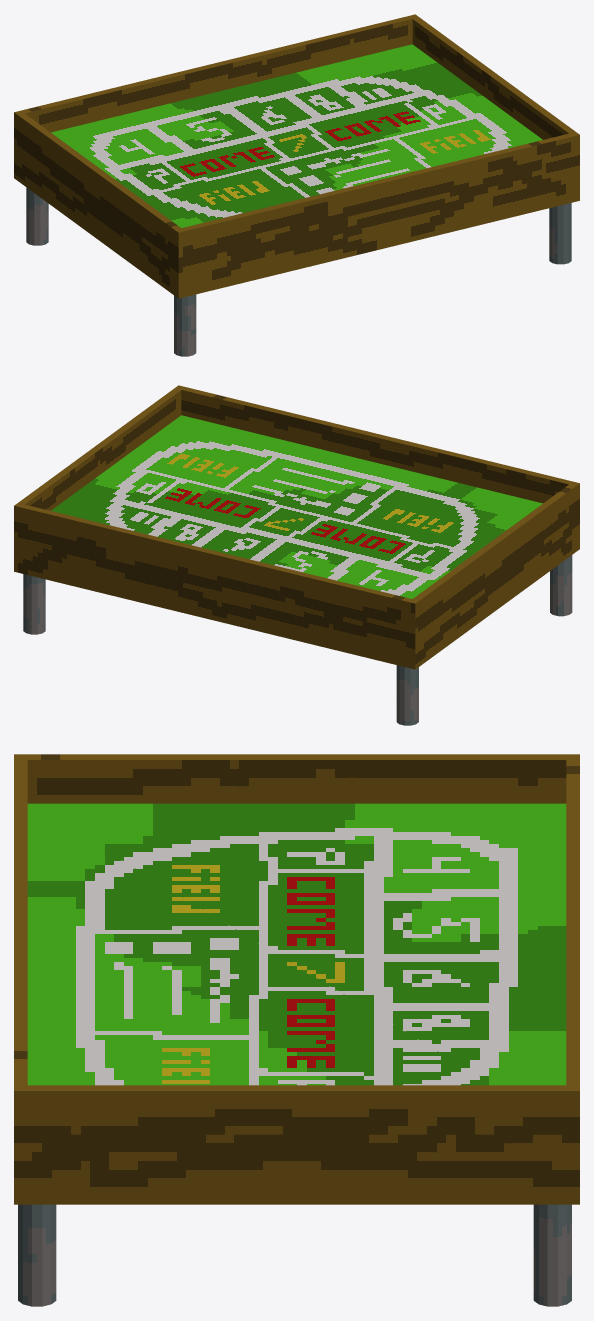
File: CrapsTable.gltf
3 views of the same model, one above another, from view 1: azimuth 30°, elevation 25°; view 2: azimuth 150°, elevation 25°; view 3: azimuth 270°, elevation 25° (orthographic). The views are drawn at different scales.
Visible parts, largest first — view 1: mesh, cylinder (×3); view 2: mesh, cylinder (×3); view 3: mesh, cylinder (×2).
Part boxes in pixels (x1,y1,x2,y2): mesh: (14, 14, 579, 298); cylinder (×3): (26, 187, 571, 356); mesh: (14, 385, 579, 669); cylinder (×3): (23, 555, 572, 725); mesh: (14, 754, 579, 1204); cylinder (×2): (18, 1204, 571, 1306).
Bounding box in the file's own units: 2.59 × 0.7812 × 1.84.
1 material, 1 textured.
